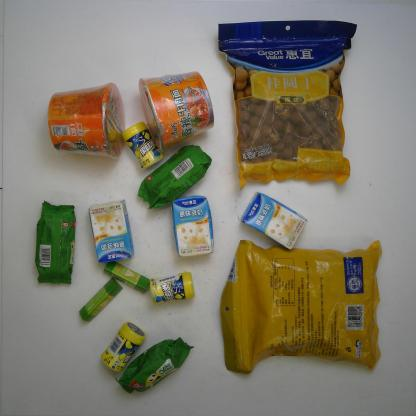Dessert: (136, 144, 212, 212), (114, 336, 195, 395), (33, 200, 77, 286)
Dried Food: (214, 18, 359, 192), (219, 238, 383, 376)
Gum: (100, 321, 148, 373), (120, 120, 165, 171), (149, 271, 196, 306)
Instant Noodles: (138, 70, 217, 153), (45, 81, 126, 160)
Milk: (240, 190, 309, 252), (88, 199, 135, 264), (170, 194, 216, 258)
Stationery: (78, 277, 124, 323), (102, 260, 150, 294)
